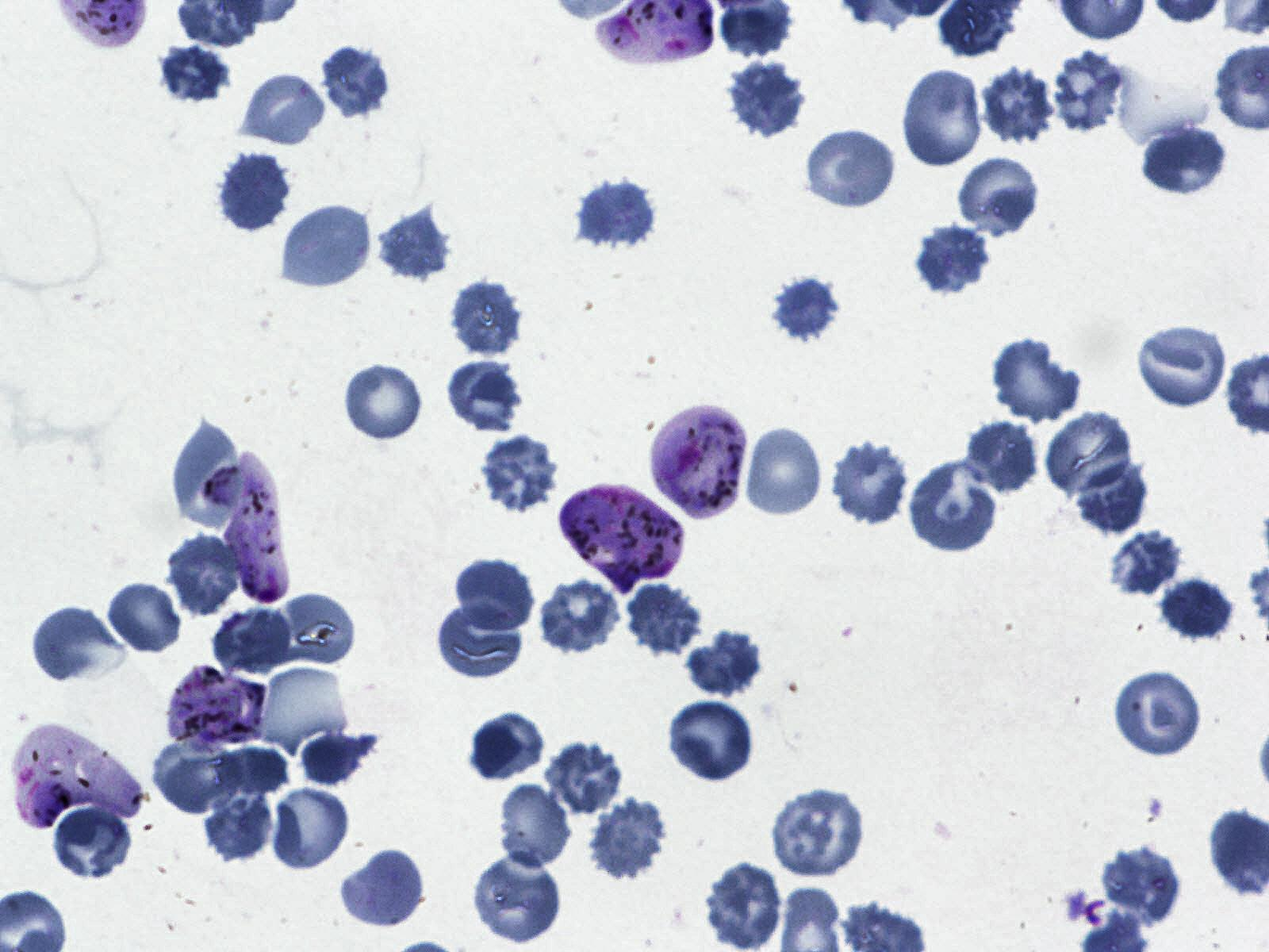Infected: (9, 724, 145, 830), (558, 487, 684, 592), (198, 459, 290, 602), (654, 407, 750, 521), (167, 667, 264, 749), (594, 1, 715, 61)
Uninfected: (900, 67, 987, 172), (470, 853, 564, 947), (770, 787, 868, 877), (1114, 669, 1206, 761), (909, 463, 1003, 553), (279, 202, 373, 290), (806, 125, 899, 211), (991, 338, 1083, 424), (28, 605, 122, 689), (1047, 412, 1135, 501), (172, 420, 242, 531), (1137, 322, 1226, 409), (744, 424, 824, 520), (704, 859, 786, 951), (667, 699, 756, 782), (474, 432, 562, 515), (957, 155, 1042, 240), (342, 846, 427, 931), (438, 599, 523, 684), (1139, 118, 1230, 197), (270, 784, 351, 872), (343, 360, 426, 443), (830, 438, 909, 525), (1102, 843, 1183, 927), (165, 532, 243, 619), (498, 782, 574, 871), (587, 798, 670, 879), (538, 575, 623, 654), (153, 737, 240, 814), (726, 58, 807, 138), (202, 776, 274, 866), (453, 562, 536, 640), (242, 70, 327, 146), (52, 800, 132, 880), (577, 175, 658, 253), (274, 592, 355, 670), (374, 205, 454, 283), (447, 278, 523, 360), (544, 739, 623, 816), (763, 270, 838, 351), (316, 41, 391, 121), (1072, 459, 1146, 540), (220, 150, 292, 232), (1054, 49, 1124, 133), (626, 580, 702, 657), (911, 222, 989, 297), (105, 582, 184, 655), (686, 628, 765, 700), (968, 421, 1041, 497), (214, 607, 293, 676), (472, 712, 546, 784), (982, 65, 1052, 140), (1105, 528, 1181, 597), (1162, 578, 1243, 642), (446, 362, 517, 429), (291, 730, 374, 787), (160, 43, 232, 104), (212, 743, 289, 797)
